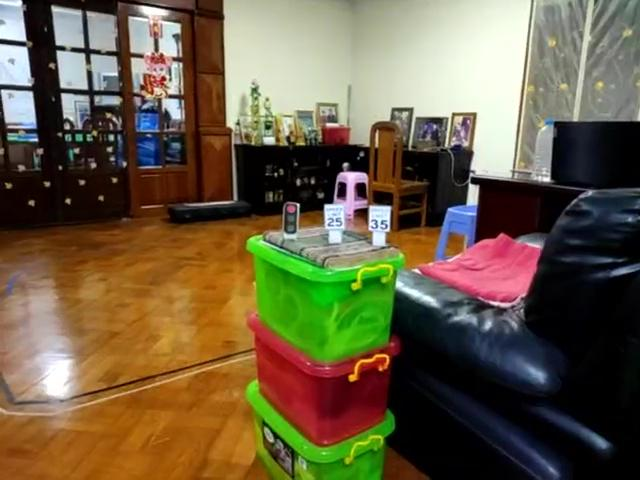Red Traffic Light: (283, 200, 301, 234)
Speed Limit 25: (324, 202, 345, 229)
Speed Limit 35: (369, 205, 393, 234)
